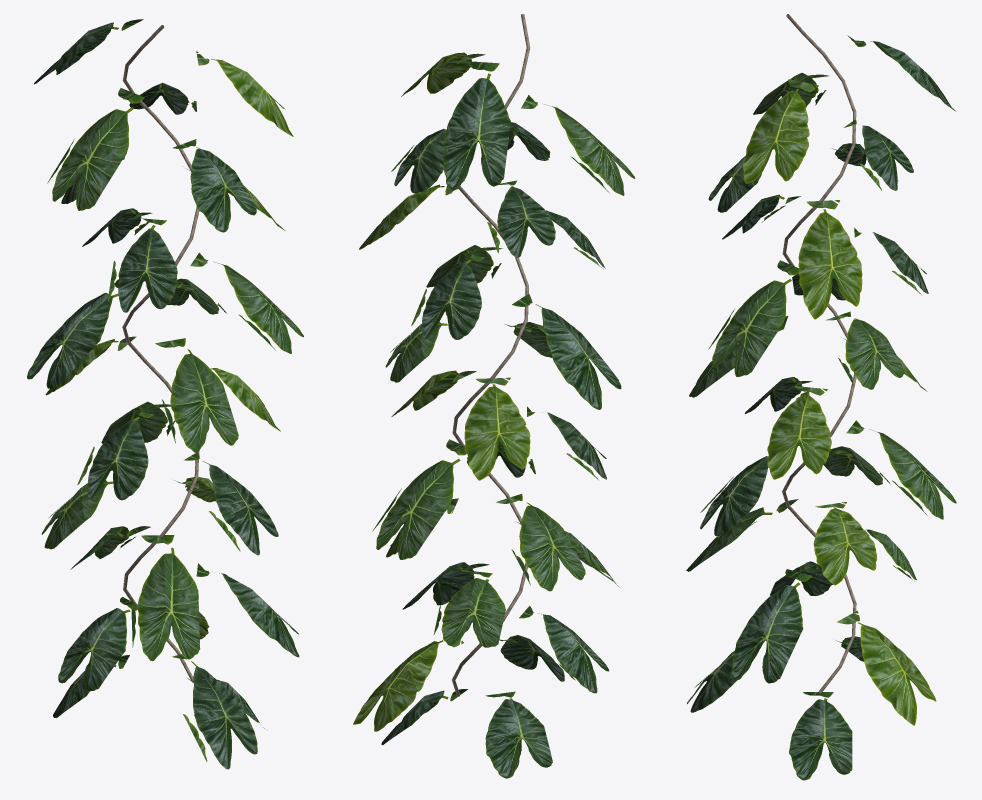
File: climber_02.glb
3 views of the same model, side by side, from view 1: azimuth 30°, elevation 25°; view 2: azimuth 150°, elevation 25°; view 3: azimuth 270°, elevation 25° (orthographic). The views are drawn at different scales.
Visible parts, largest first — view 1: climber_02; view 2: climber_02; view 3: climber_02.
Part boxes in pixels (x1,y1,x2,y2): climber_02: (27, 19, 303, 769); climber_02: (353, 14, 635, 778); climber_02: (686, 14, 956, 780).
Size of the model in its own units: 2.01 by 5.47 by 2.03.
Materials: 2 (2 with a texture image).
